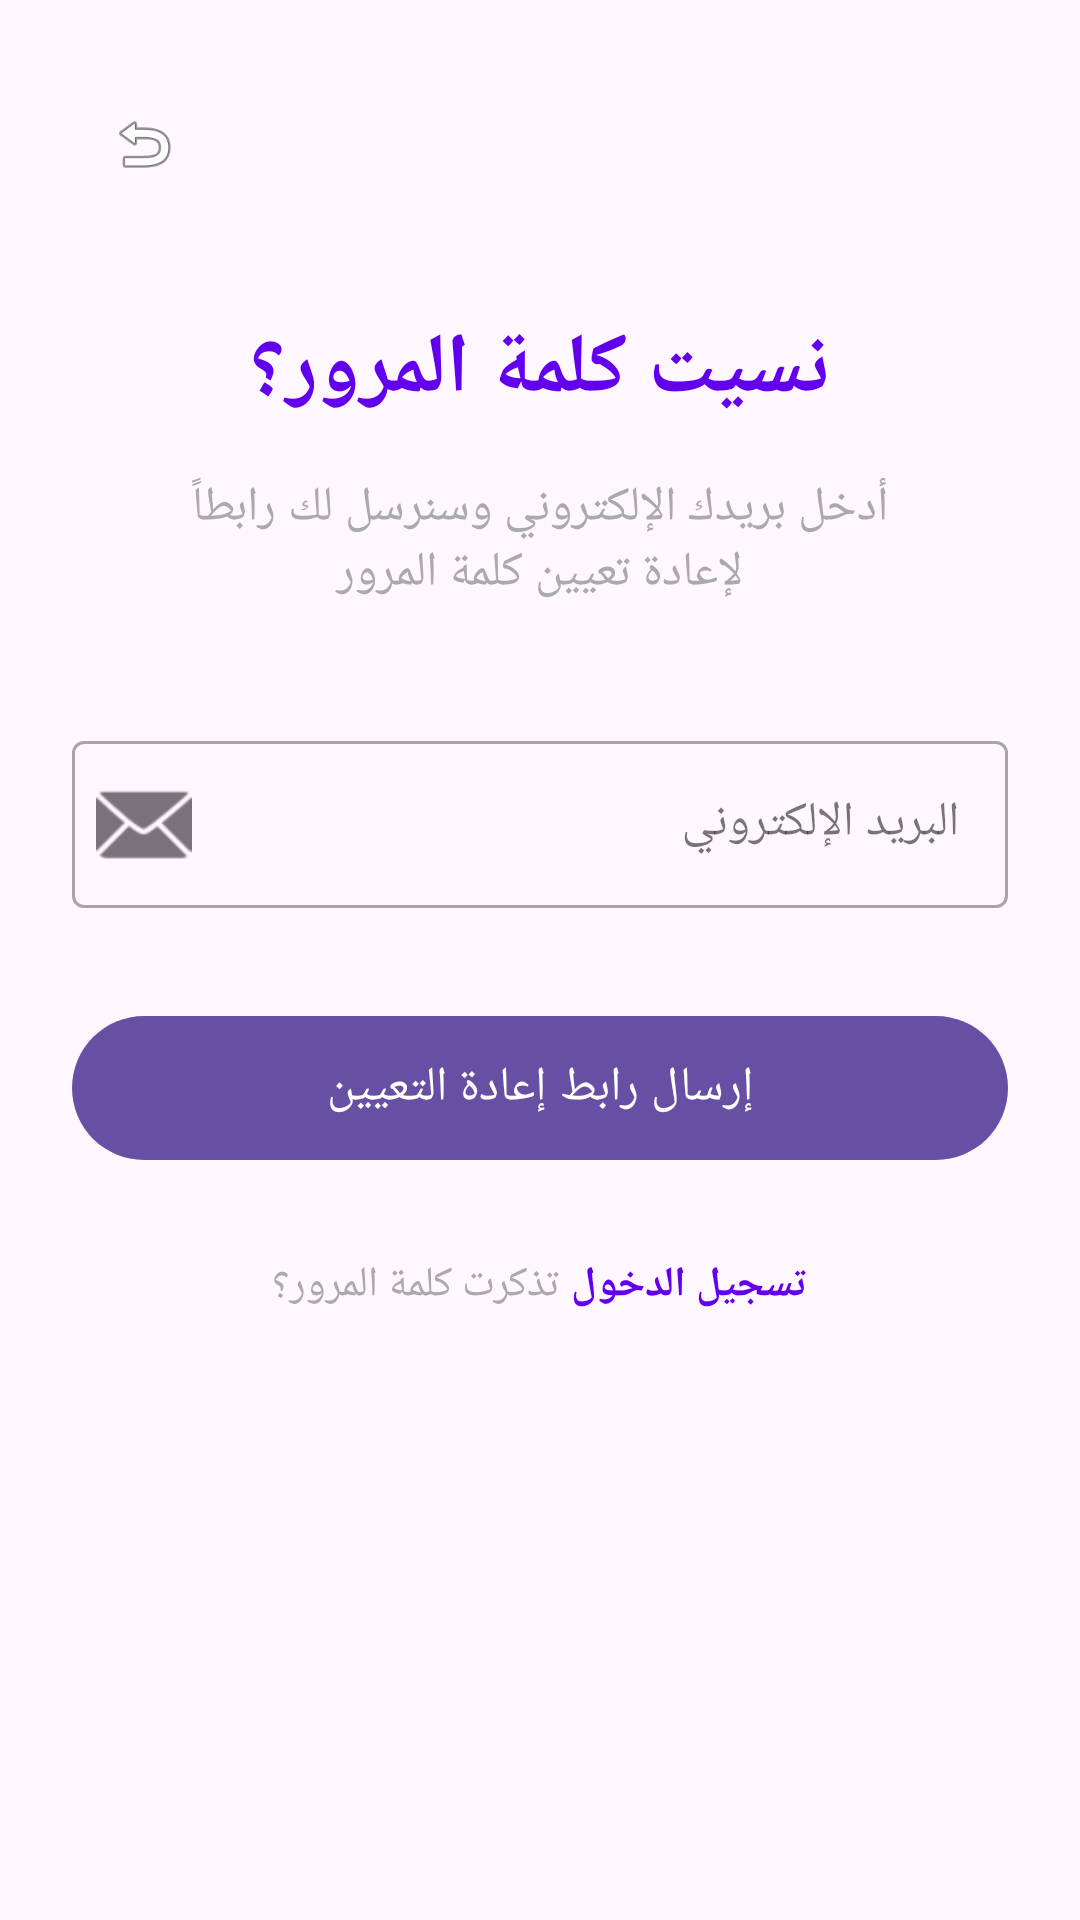

Icons on this 1080px×1920px Android screen, each with the point to tap as (x,y):
revert: (145,144)
